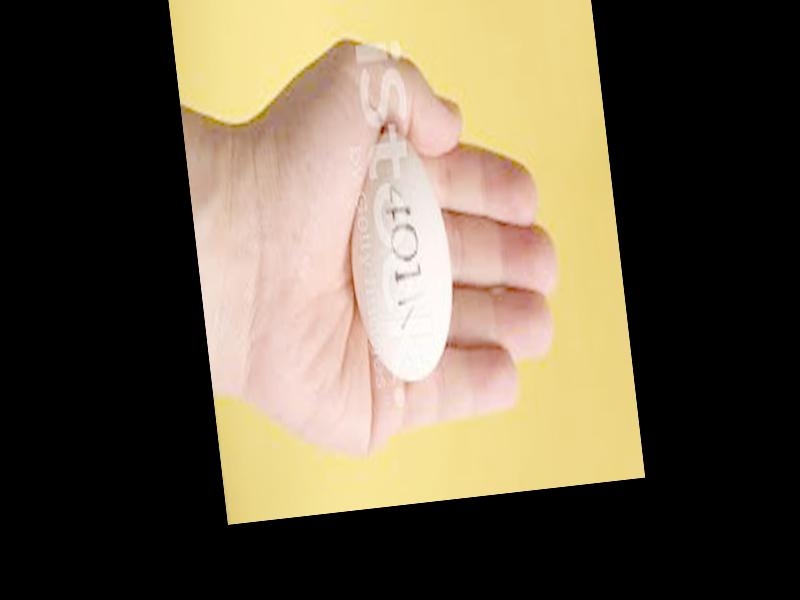Eggs: (338, 126, 462, 386)
